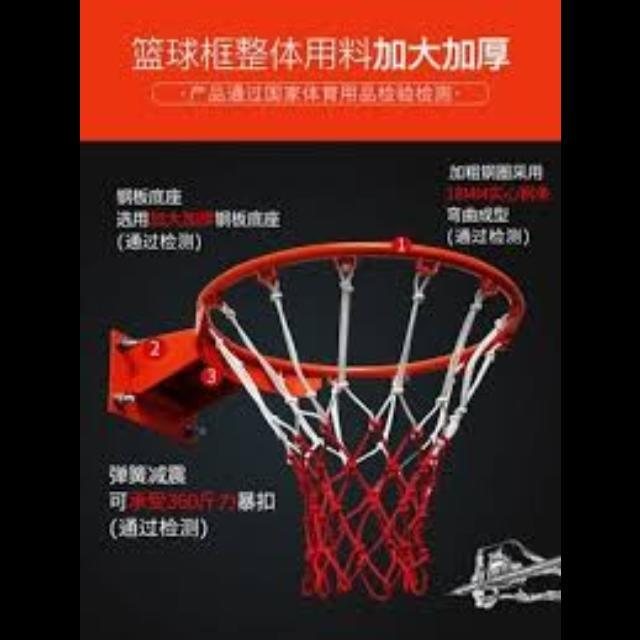rim: (196, 240, 524, 598)
